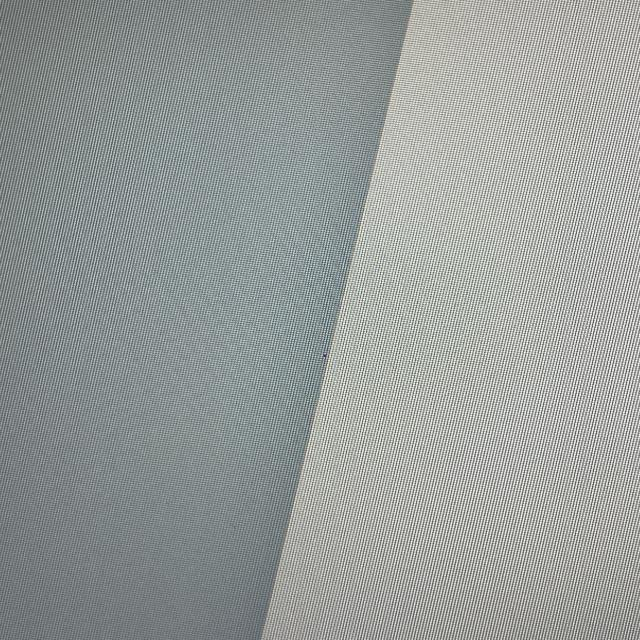Dead pixel: (322, 354, 327, 357)
